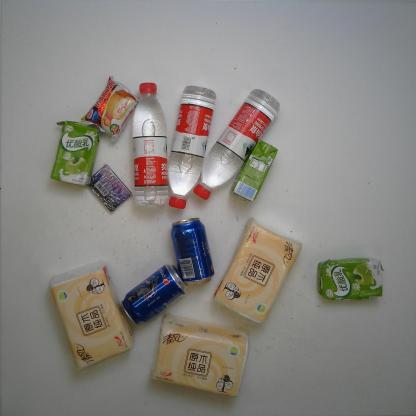Dessert: (81, 73, 146, 144)
Drink: (191, 85, 284, 201), (167, 83, 219, 209), (125, 82, 177, 207), (119, 260, 192, 327), (165, 218, 222, 286)
Gum: (82, 163, 134, 214)
Milk: (49, 115, 101, 191), (230, 139, 281, 202), (315, 256, 385, 301)
Tissue: (214, 218, 305, 327), (49, 259, 136, 371), (149, 311, 250, 399)
